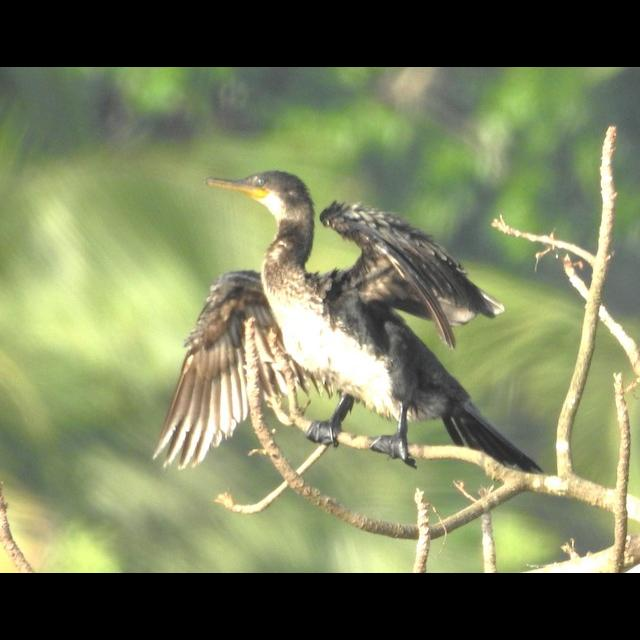cormorant: (152, 150, 556, 498)
